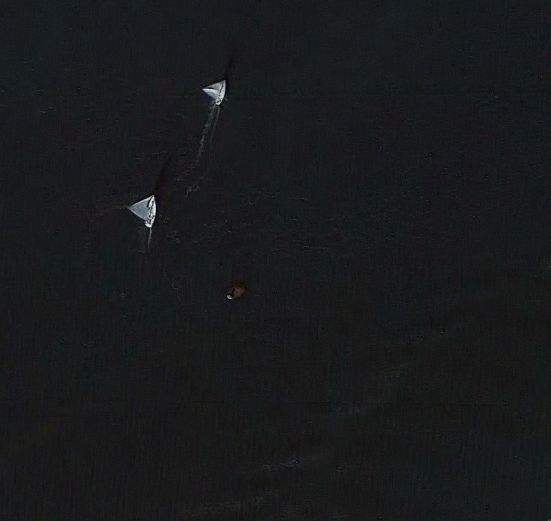boat: (125, 191, 165, 235), (201, 78, 236, 110)
